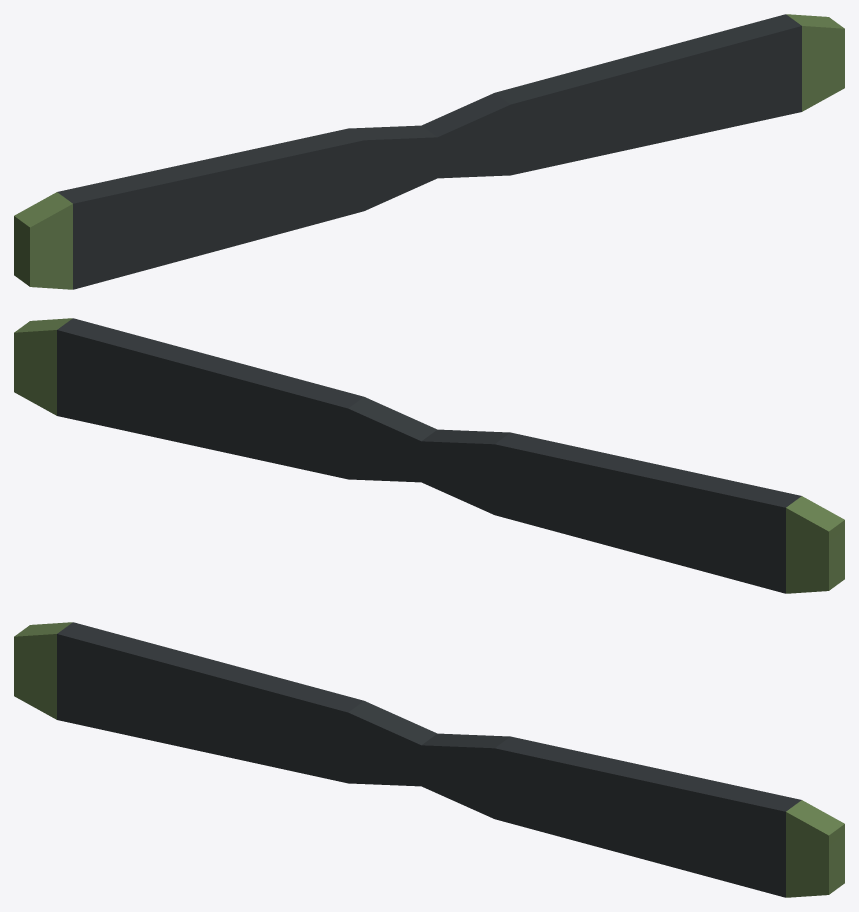
The picture shows the model from 3 angles, top to bottom: view 1: azimuth 30°, elevation 25°; view 2: azimuth 150°, elevation 25°; view 3: azimuth 330°, elevation 25°; orthographic projection.
Parts seen in each view (by area): view 1: Plane_02_2; view 2: Plane_02_2; view 3: Plane_02_2.
Boxes of the visible parts, x1=… form: Plane_02_2: x1=14, y1=14, x2=844, y2=289; Plane_02_2: x1=14, y1=318, x2=844, y2=593; Plane_02_2: x1=14, y1=622, x2=844, y2=897.
Bounding box in the file's own units: 1.87 × 0.1887 × 0.064.
